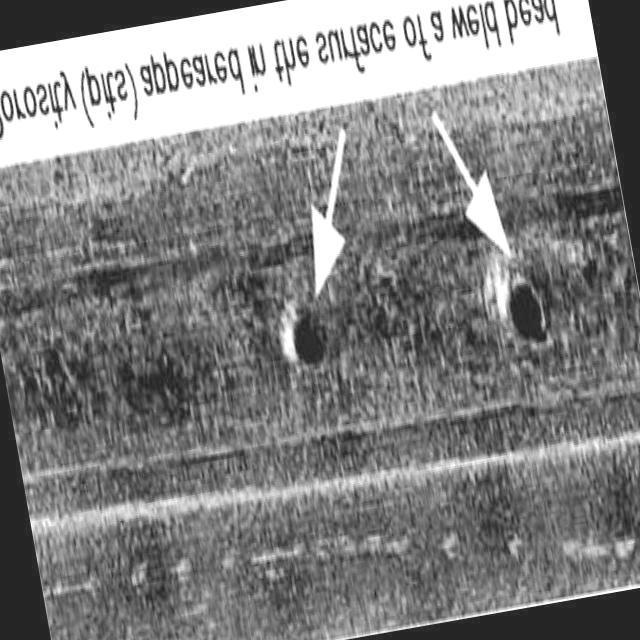defect: (272, 307, 339, 399), (506, 263, 553, 357)
